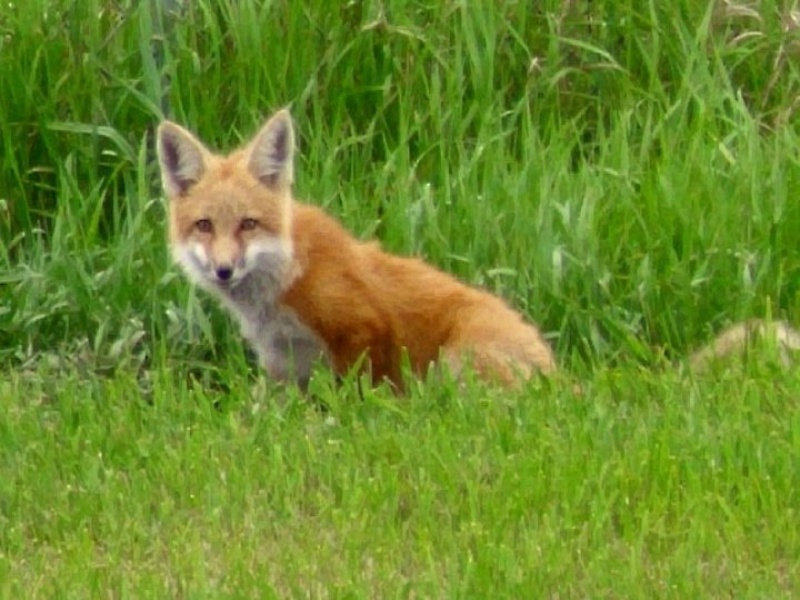fox: (153, 111, 563, 400)
